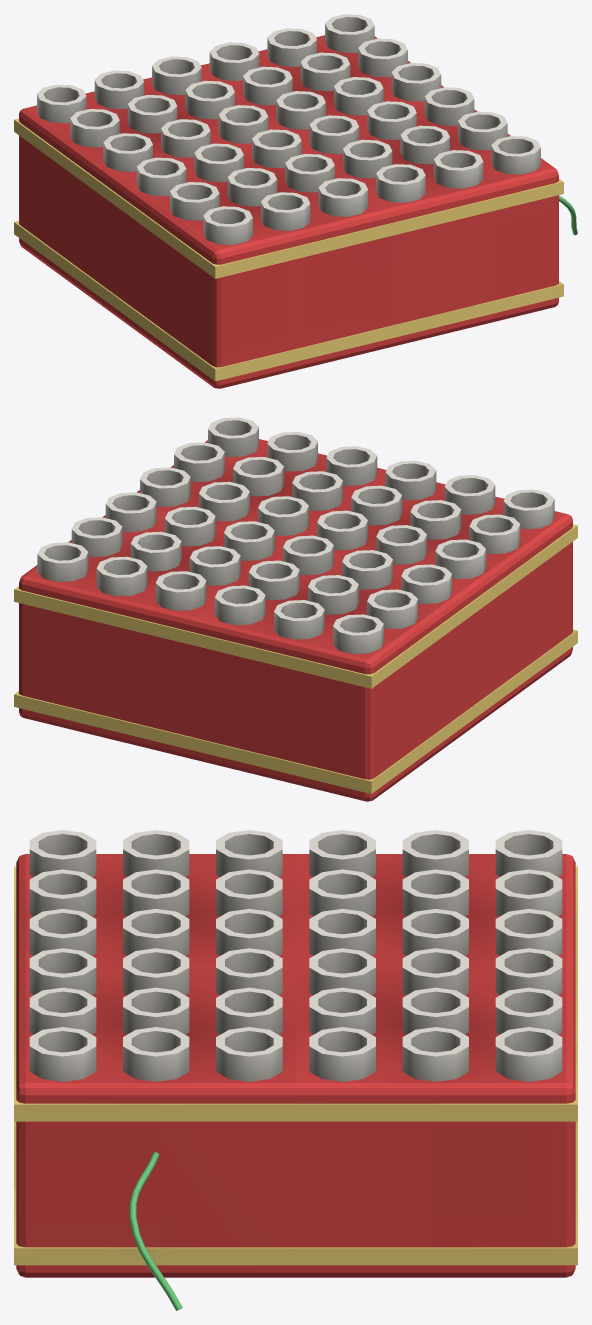
File: pr_fireworks.glb
3 views of the same model, one above another, from view 1: azimuth 30°, elevation 25°; view 2: azimuth 150°, elevation 25°; view 3: azimuth 270°, elevation 25° (orthographic). The views are drawn at different scales.
Parts seen in each view (by area): view 1: body; view 2: body; view 3: body.
Boxes of the visible parts, x1,y1,x2,y2 form: body: (14,14,577,388); body: (14,417,577,801); body: (14,830,577,1310).
Size of the model in its own units: 1.46 by 0.52 by 1.21.
